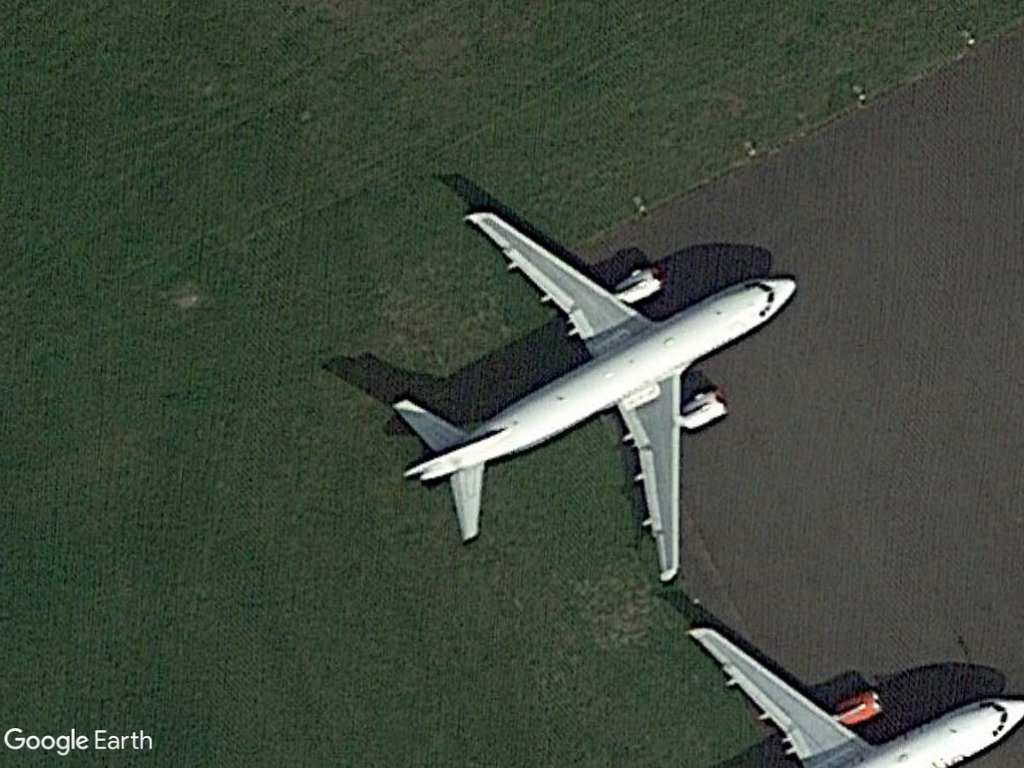airliner: (384, 199, 808, 595)
